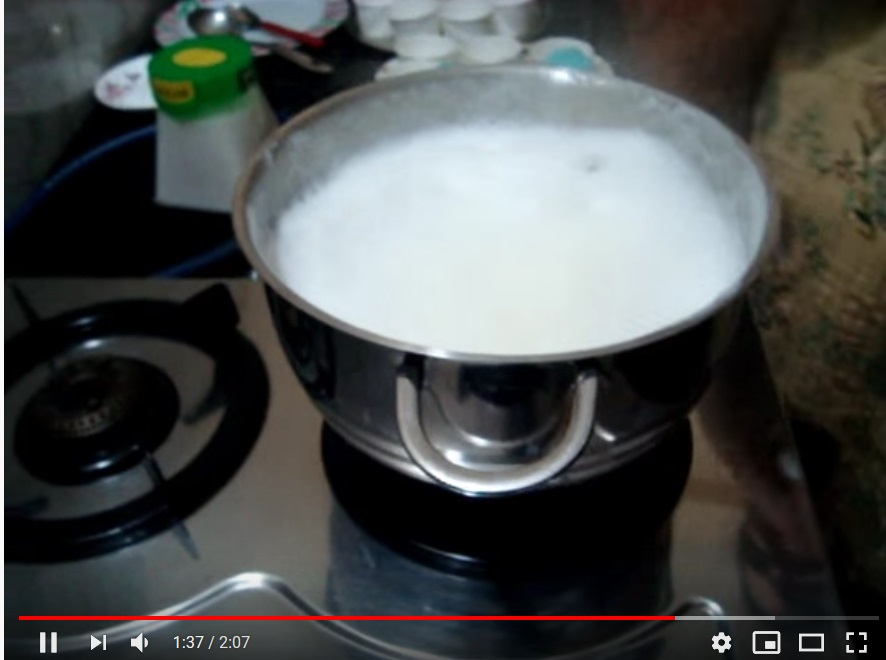Steaming: (193, 60, 759, 518)
